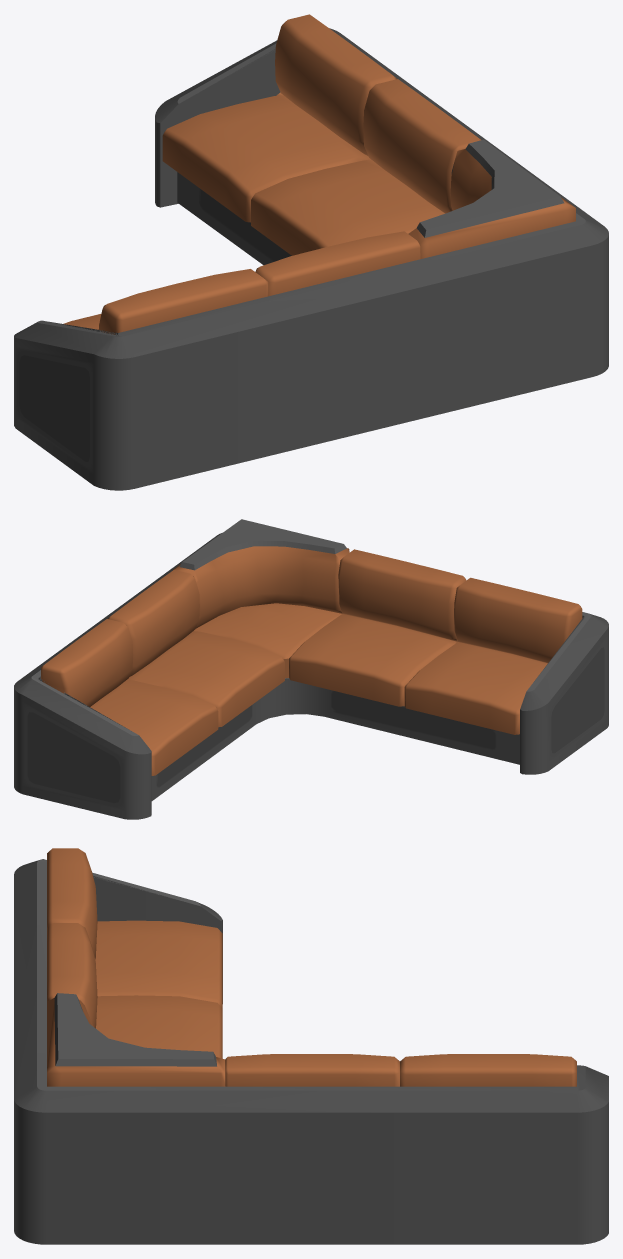
File: Sofa.fbx
3 renders of one model, top to bottom at view 1: azimuth 30°, elevation 25°; view 2: azimuth 150°, elevation 25°; view 3: azimuth 270°, elevation 25°, orthographic. The views are drawn at different scales.
Parts seen in each view (by area): view 1: spin4_low; view 2: spin4_low; view 3: spin4_low.
Boxes of the visible parts, x1=… form: spin4_low: x1=14, y1=14, x2=608, y2=490; spin4_low: x1=14, y1=519, x2=608, y2=819; spin4_low: x1=14, y1=848, x2=608, y2=1244.
Bounding box in the file's own units: 322 × 99.76 × 322.
